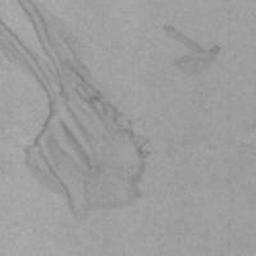Water spot: (0, 0, 151, 221), (163, 24, 220, 77)
